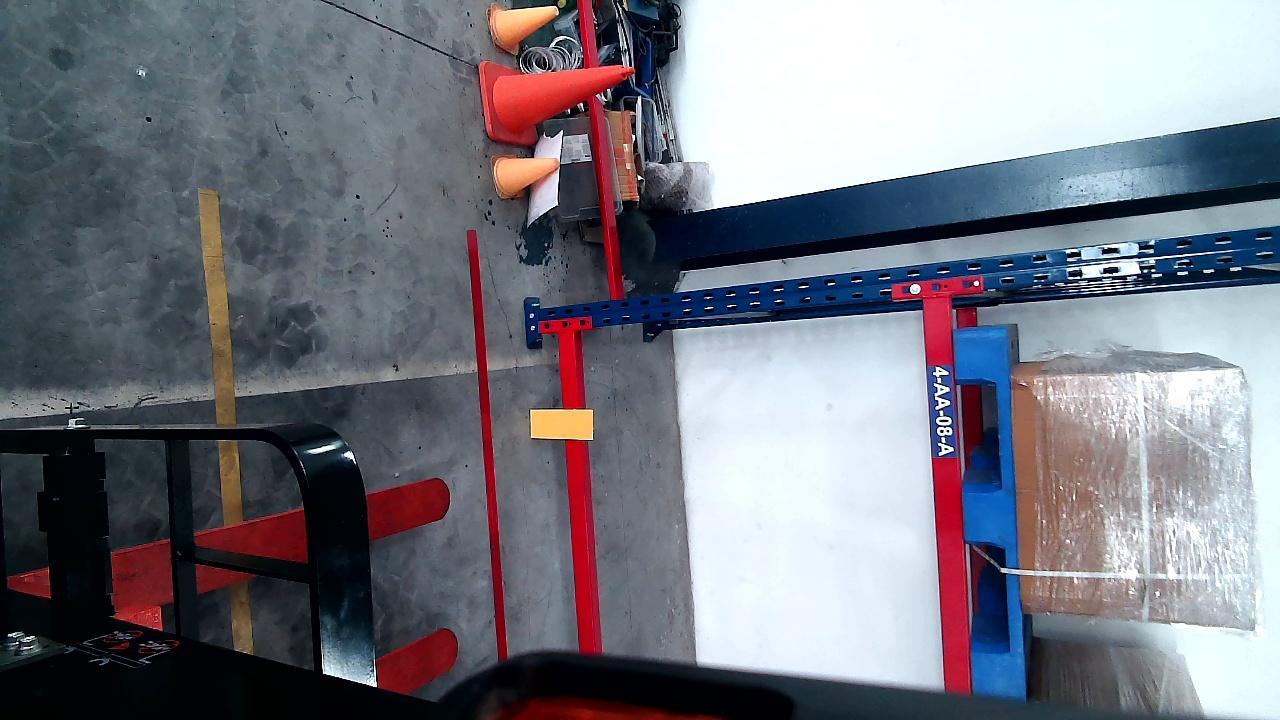red_line: (464, 226, 512, 661)
yellow_line: (189, 185, 257, 648)
